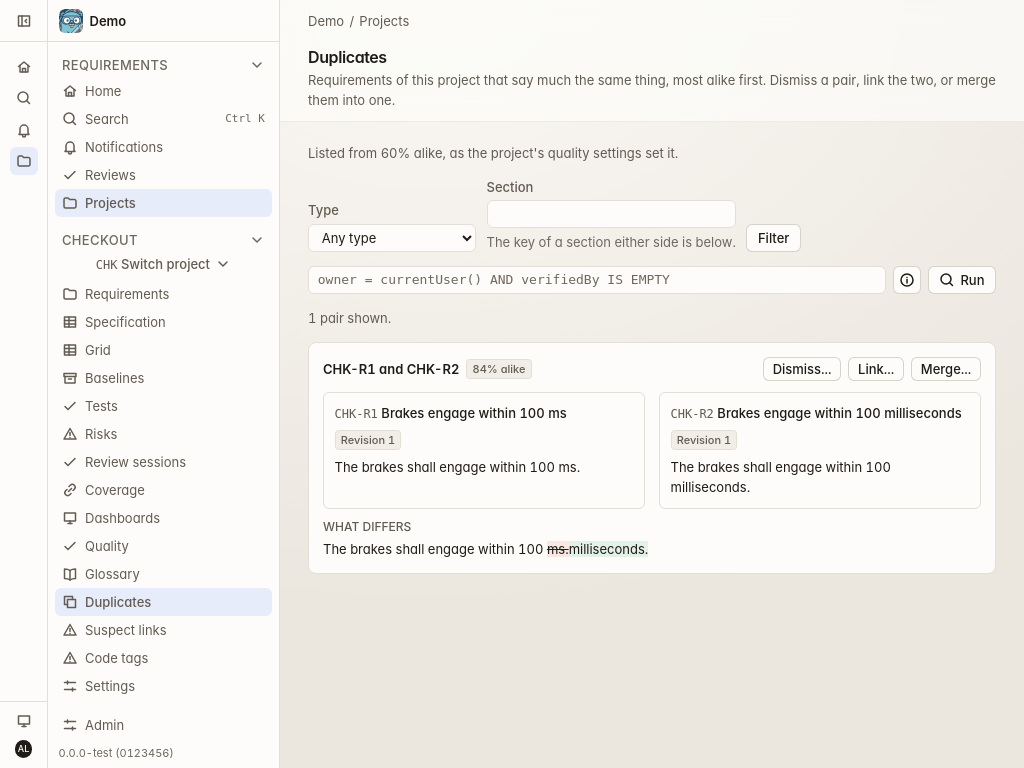
Test: the duplicates page › shows a link type the project refuses where the way is chosen
The image size is (1024, 768).
Click the button with aria-label "Link CHK-R1 and CHK-R2": (876, 369) [848,357,904,381]
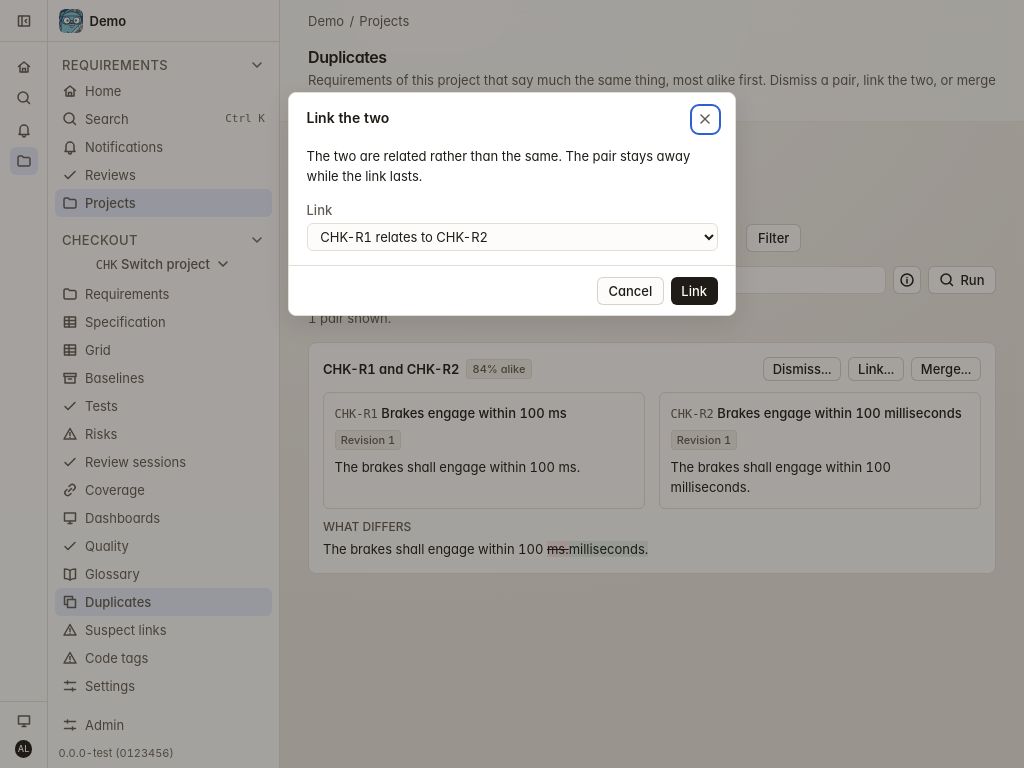
Click the button "Link": (694, 291) [671,277,718,305]
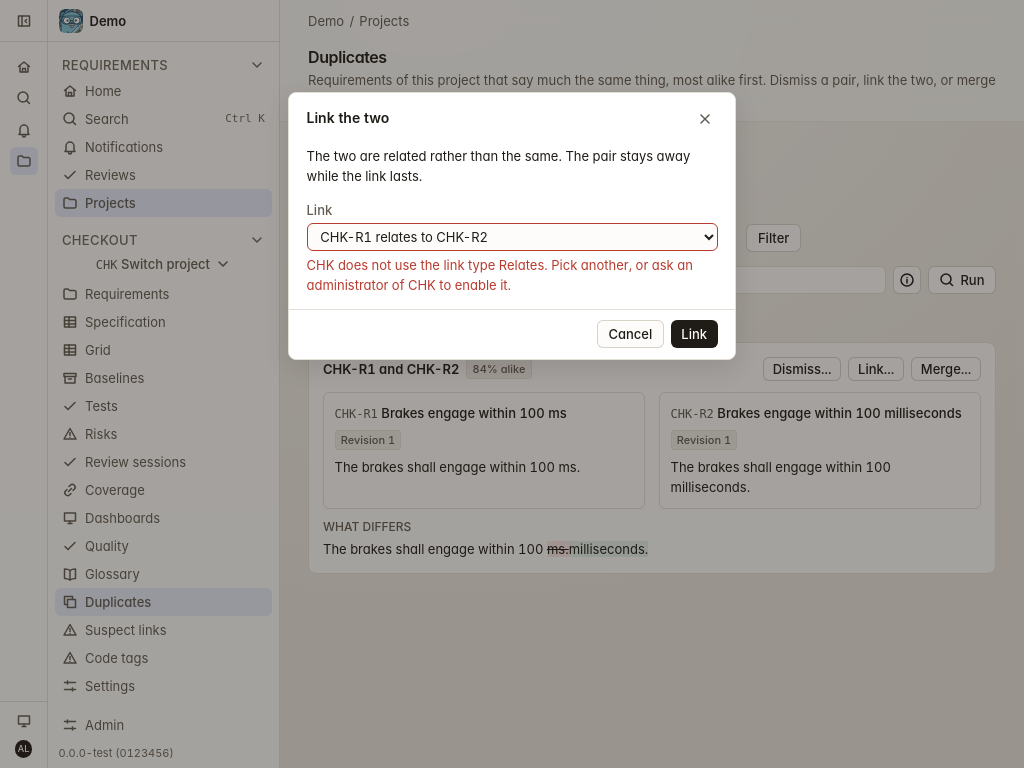
Expected: the text "CHK does not use the link type Relates. Pick another, or ask an administrator of CHK to enable it." is shown, [306,257,693,293]
